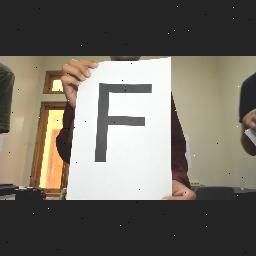f: (88, 77, 158, 165)
